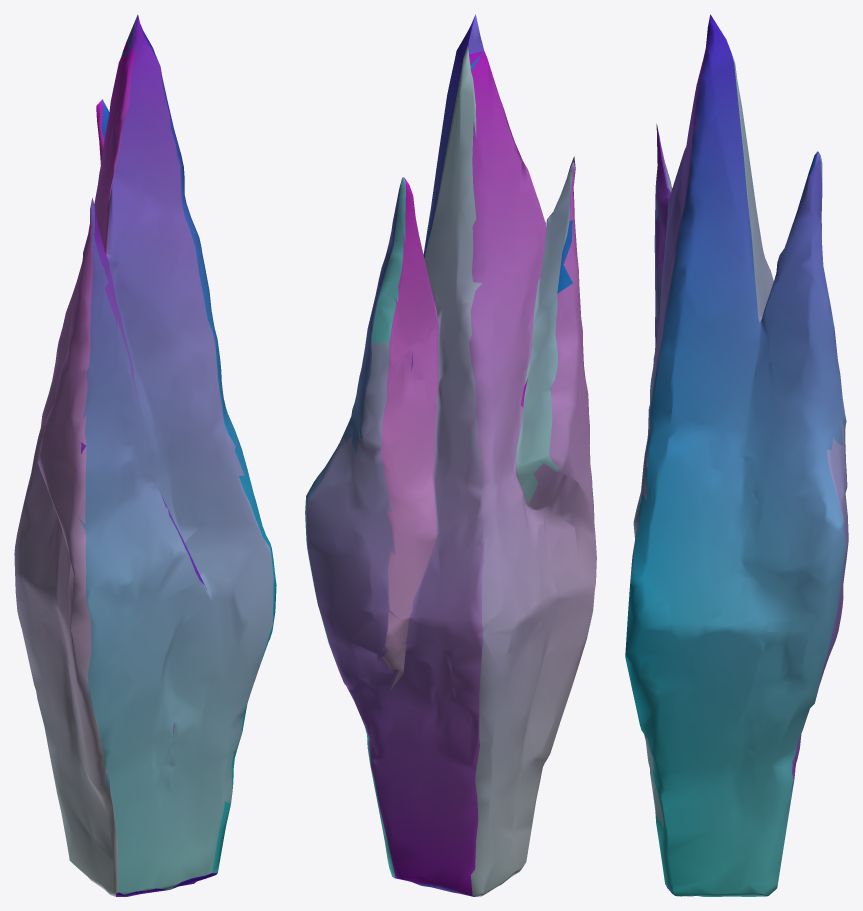
The picture shows the model from 3 angles, left to right: view 1: azimuth 30°, elevation 25°; view 2: azimuth 150°, elevation 25°; view 3: azimuth 270°, elevation 25°; orthographic projection.
Visible parts, largest first — view 1: SM_US_Red_Bush_01_LOD0; view 2: SM_US_Red_Bush_01_LOD0; view 3: SM_US_Red_Bush_01_LOD0.
Boxes of the visible parts, x1,y1,x2,y2 form: SM_US_Red_Bush_01_LOD0: (14,14,276,896); SM_US_Red_Bush_01_LOD0: (305,14,596,896); SM_US_Red_Bush_01_LOD0: (625,14,848,896).
Size of the model in its own units: 2.39 by 9.42 by 2.23.
